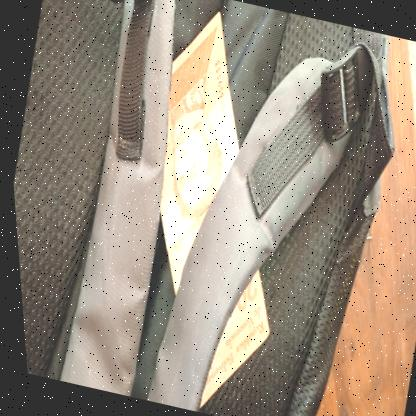twenty-front-vef: (90, 2, 338, 416)
